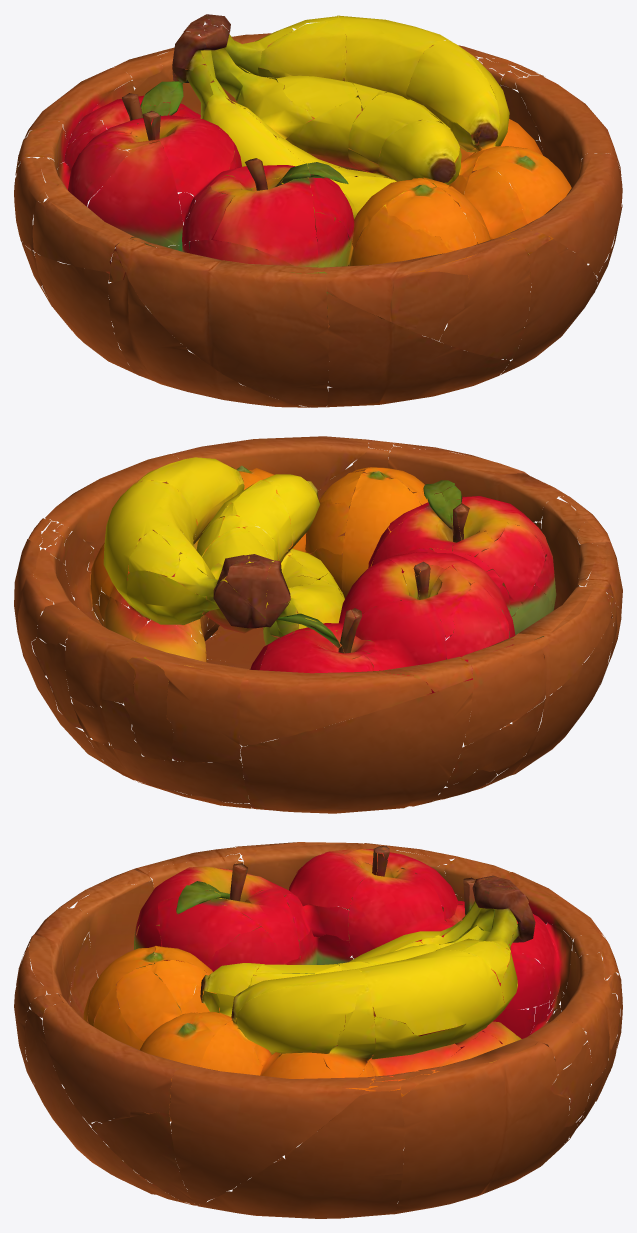
The model's file is frutero.glb.
3 renders of one model, top to bottom at view 1: azimuth 30°, elevation 25°; view 2: azimuth 150°, elevation 25°; view 3: azimuth 270°, elevation 25°, orthographic.
Visible parts, largest first — view 1: tripo_node_ca2ac014-6254-4cc2-8649-8a6bac83ec08; view 2: tripo_node_ca2ac014-6254-4cc2-8649-8a6bac83ec08; view 3: tripo_node_ca2ac014-6254-4cc2-8649-8a6bac83ec08.
Boxes of the visible parts, left/top/right/bottom form: tripo_node_ca2ac014-6254-4cc2-8649-8a6bac83ec08: left=14, top=14, right=622, bottom=407; tripo_node_ca2ac014-6254-4cc2-8649-8a6bac83ec08: left=14, top=436, right=622, bottom=813; tripo_node_ca2ac014-6254-4cc2-8649-8a6bac83ec08: left=14, top=842, right=622, bottom=1218.
Size of the model in its own units: 0.9805 by 0.3882 by 0.9808.
Materials: 1 (1 with a texture image).
